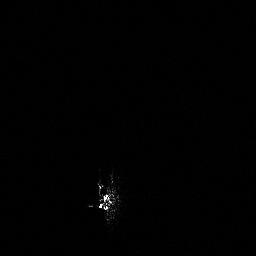ship: (87, 169, 125, 229)
